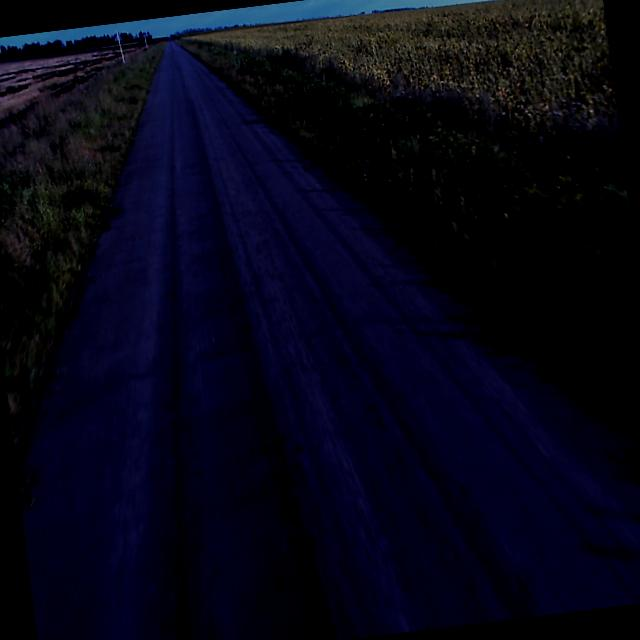road: (21, 37, 640, 640)
